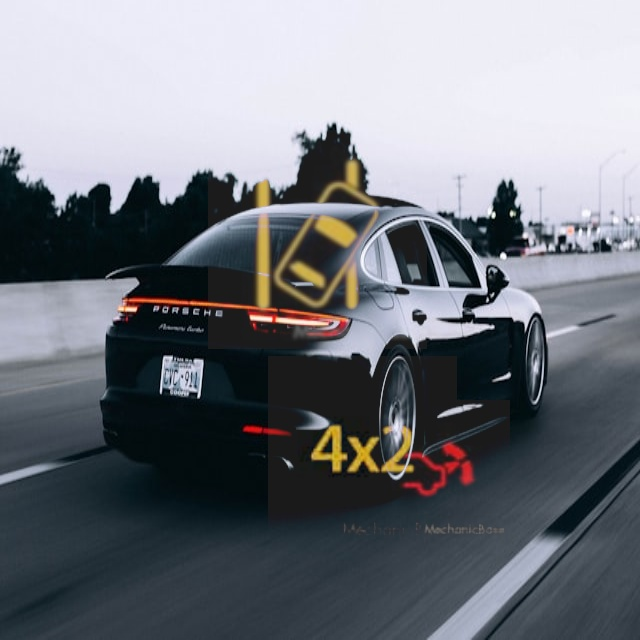symbol: (208, 130, 427, 349), (268, 356, 457, 545), (369, 400, 510, 541)
